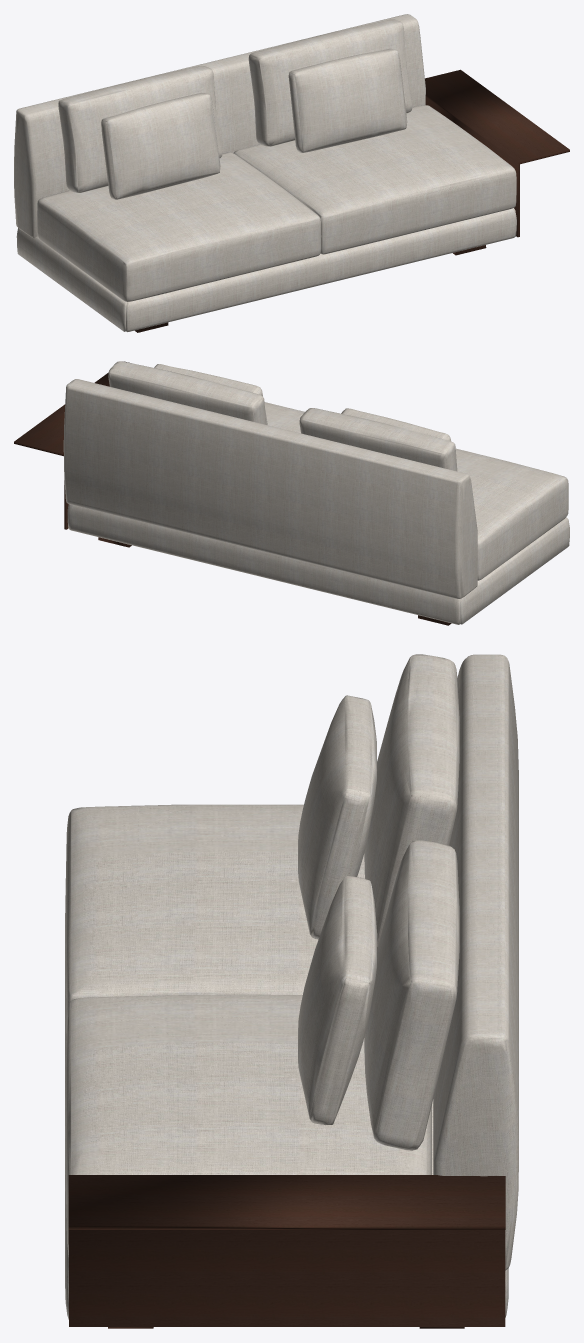
Rendered from sofa-modelo-duplo-sem-braco.glb.
3 renders of one model, top to bottom at view 1: azimuth 30°, elevation 25°; view 2: azimuth 150°, elevation 25°; view 3: azimuth 270°, elevation 25°, orthographic. The views are drawn at different scales.
Visible parts, largest first — view 1: Modelo Duplo Sem Braco; view 2: Modelo Duplo Sem Braco; view 3: Modelo Duplo Sem Braco.
Part boxes in pixels (x1,y1,x2,y2): Modelo Duplo Sem Braco: (14, 14, 569, 332); Modelo Duplo Sem Braco: (14, 361, 569, 625); Modelo Duplo Sem Braco: (65, 654, 518, 1328).
Bounding box in the file's own units: 2.36 × 0.8737 × 1.04.
2 materials, 2 textured.
